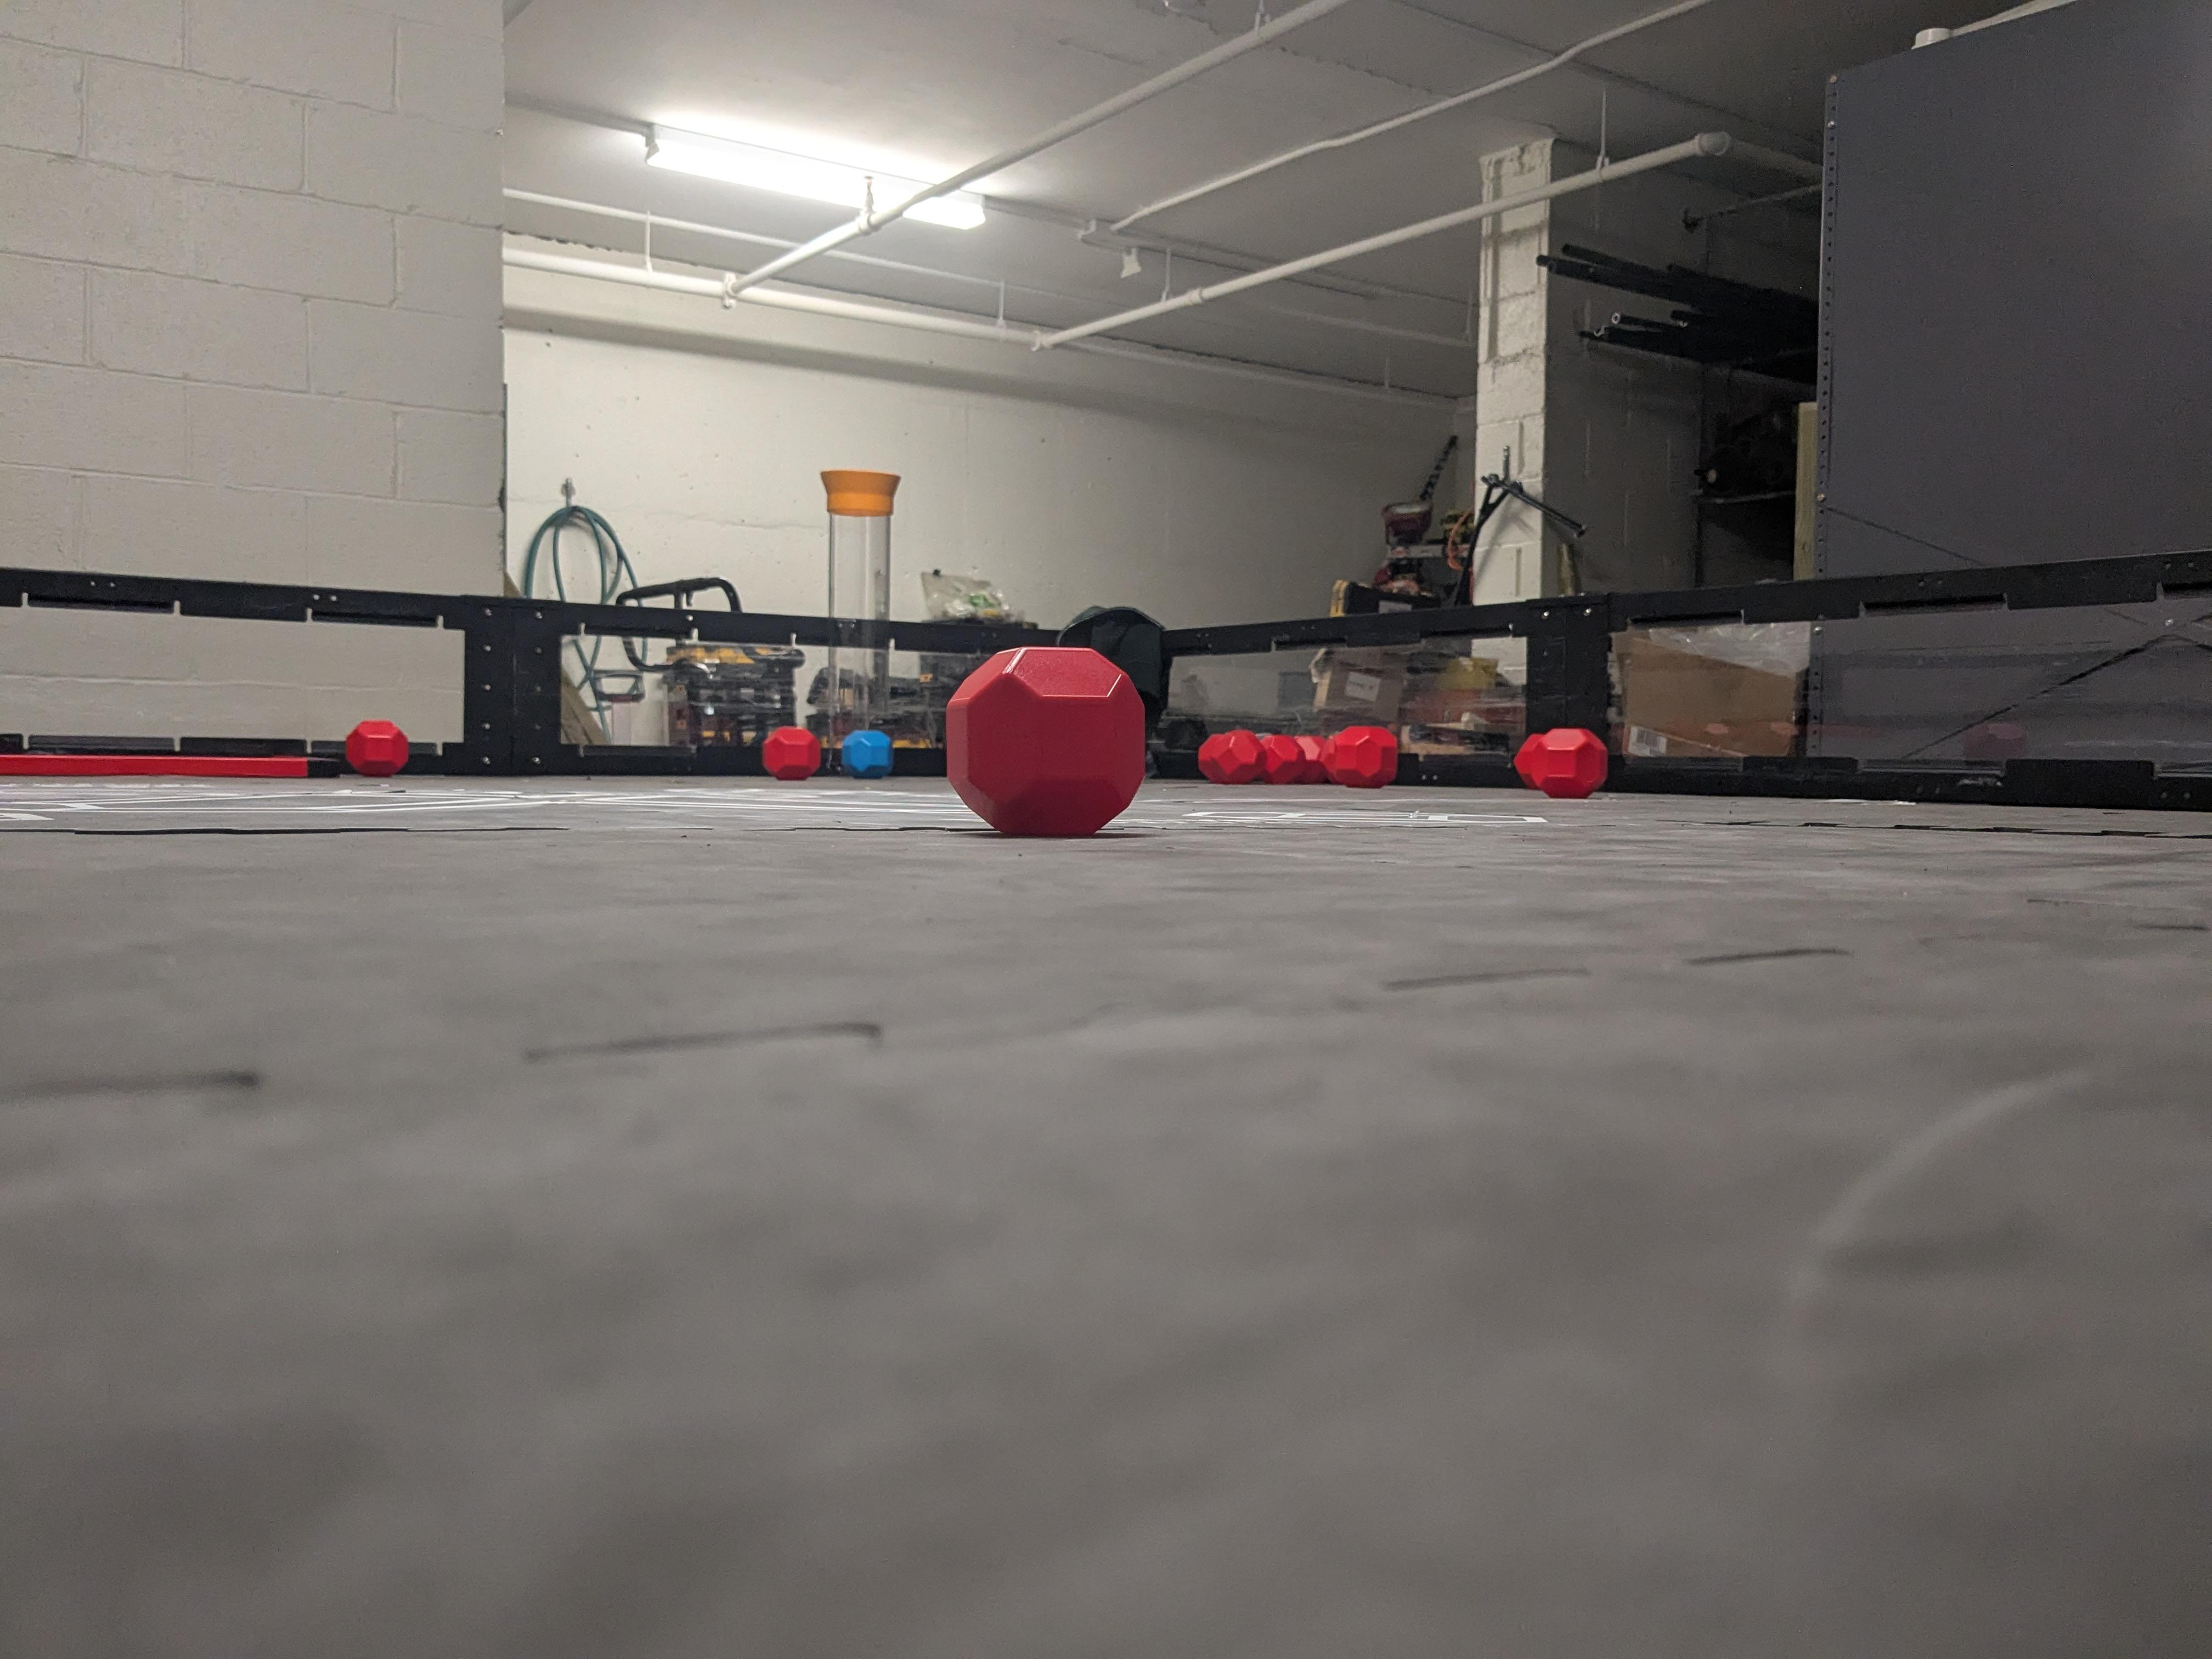Vex-Pieces-BLUE: (840, 730, 894, 779)
Vex-Pieces-RED: (949, 647, 1143, 835), (1514, 727, 1608, 798), (1322, 725, 1399, 788), (343, 720, 409, 777), (1198, 730, 1263, 782), (761, 727, 822, 781), (1261, 735, 1320, 784), (1298, 735, 1327, 765), (1310, 769, 1325, 782)
